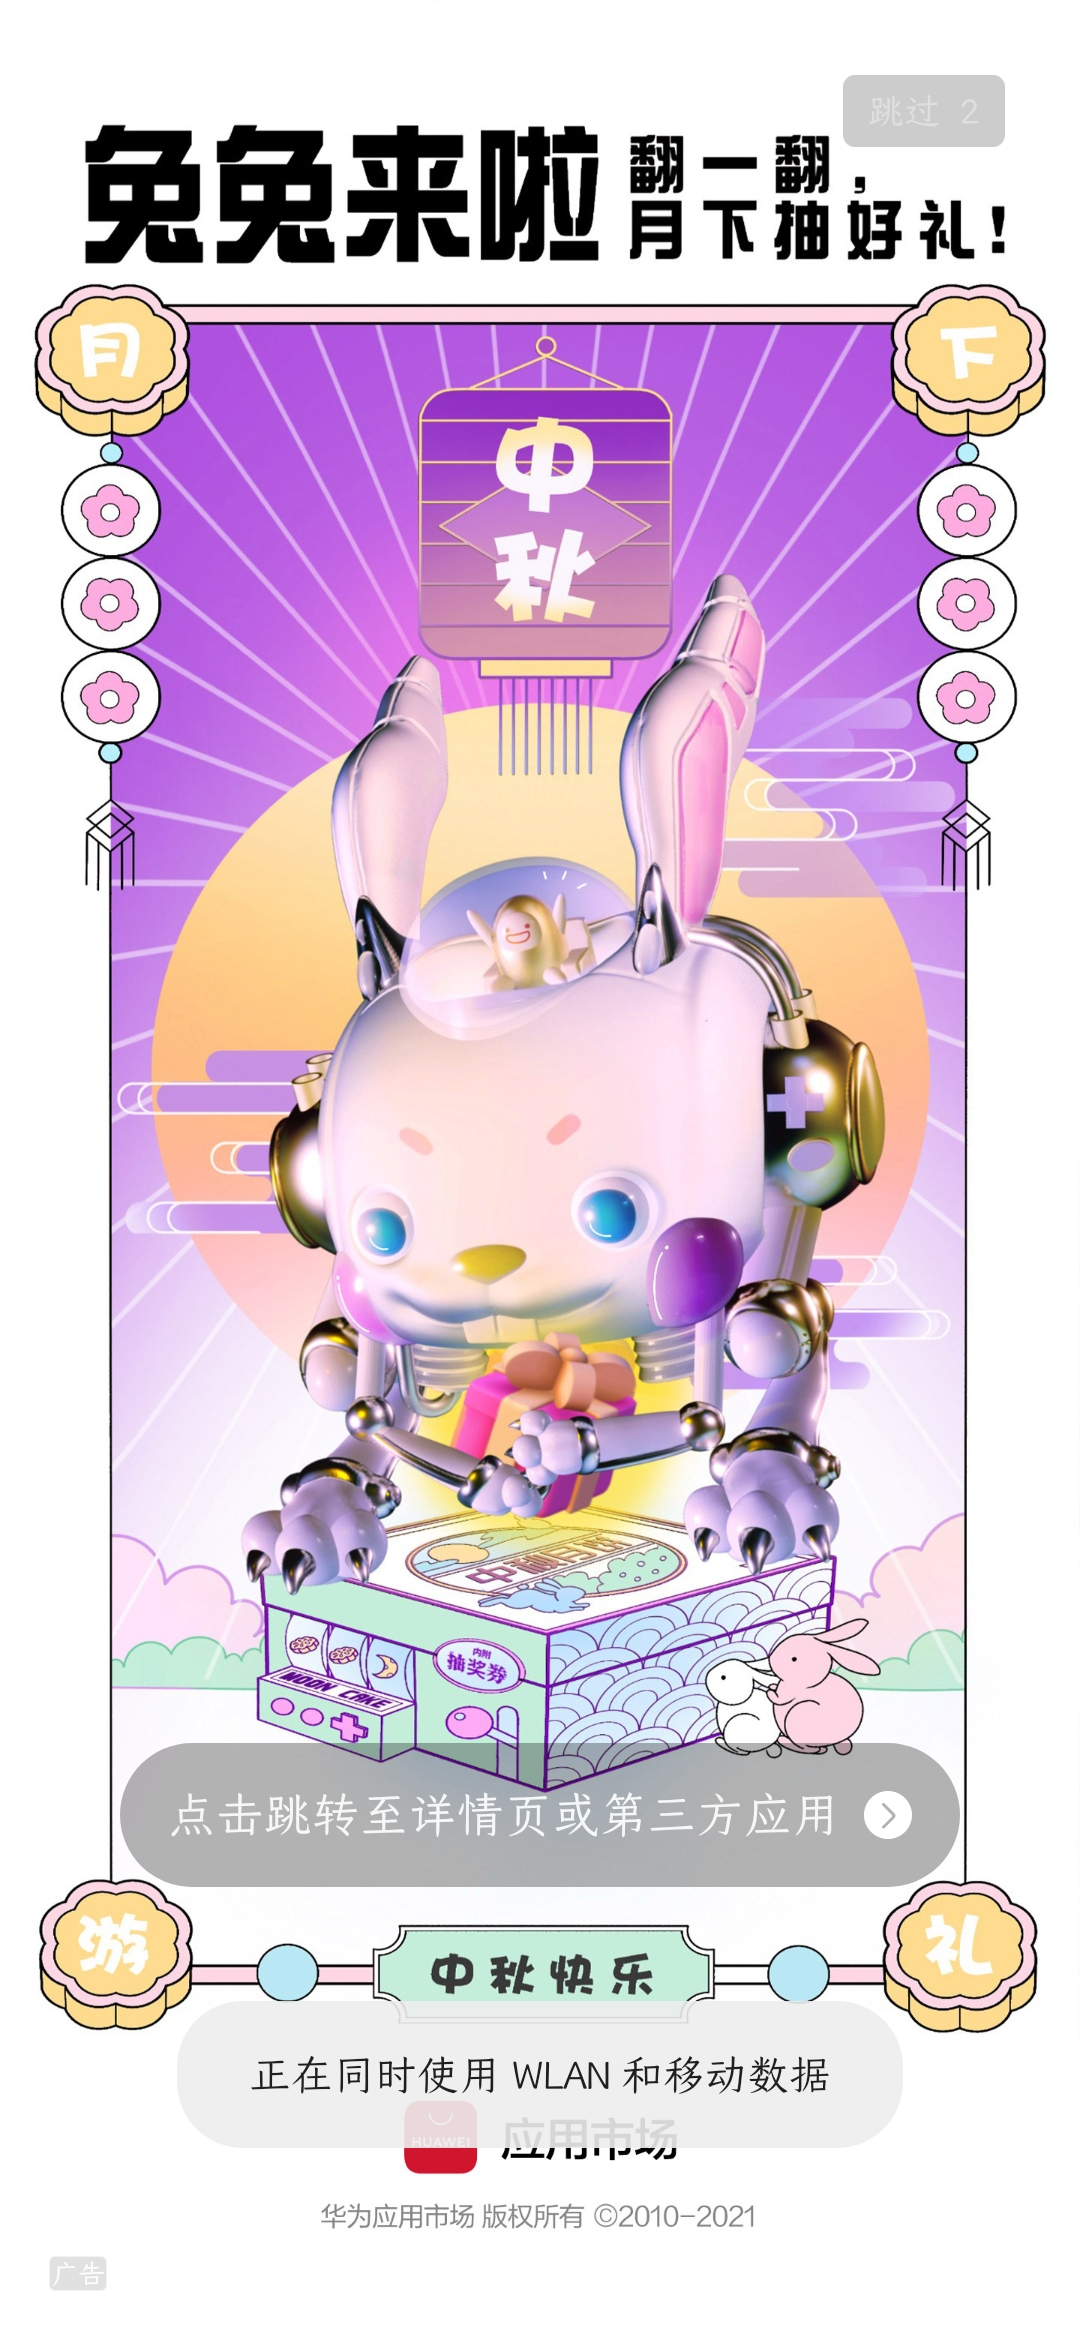skip: (847, 75, 1011, 148)
